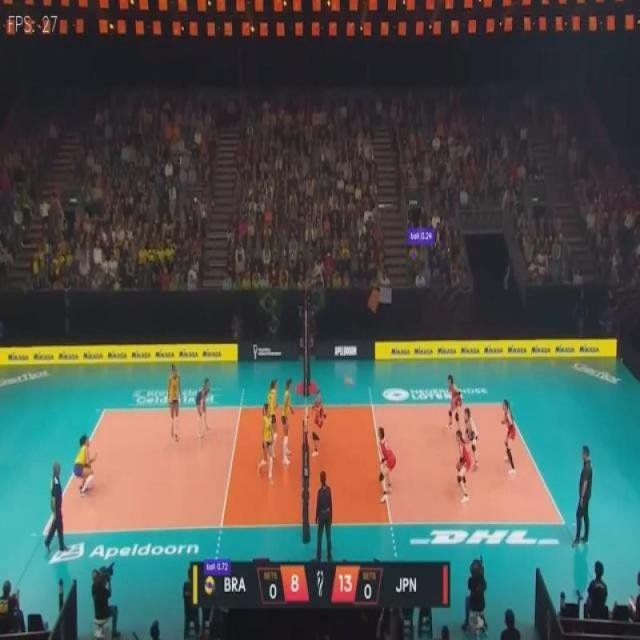volleyball: (204, 574, 216, 596), (343, 374, 353, 386)
